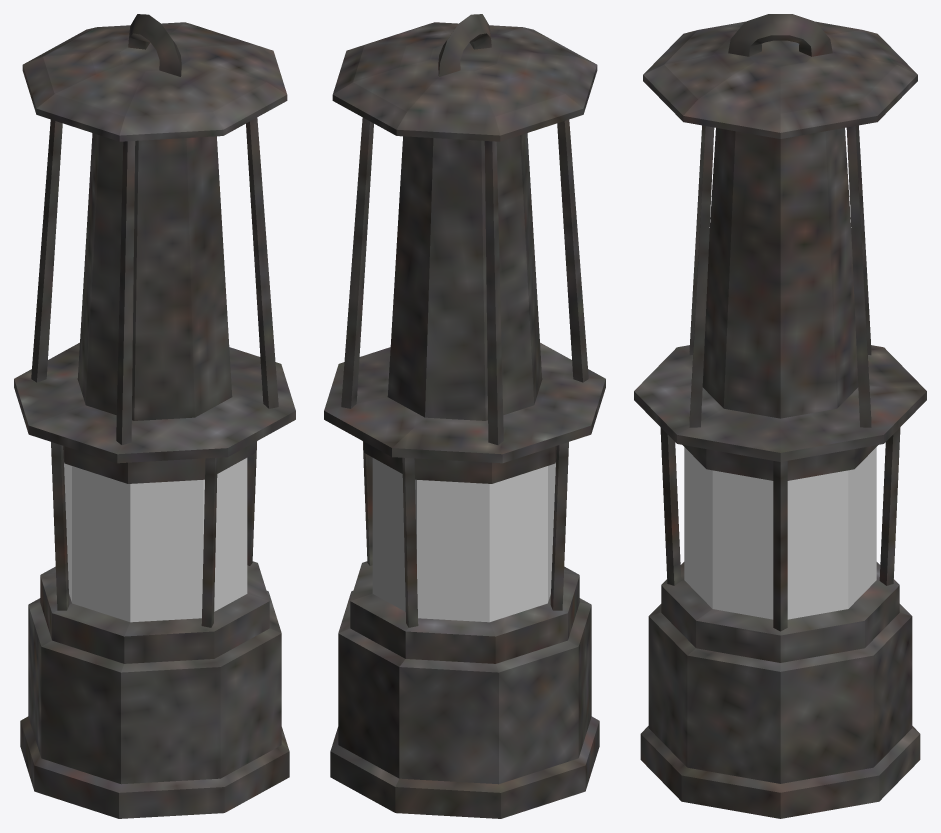
The model's file is JAM_Lamp.fbx.
3 views of the same model, side by side, from view 1: azimuth 30°, elevation 25°; view 2: azimuth 150°, elevation 25°; view 3: azimuth 270°, elevation 25° (orthographic).
Parts seen in each view (by area): view 1: PROPS_Lamp; view 2: PROPS_Lamp; view 3: PROPS_Lamp.
Boxes of the visible parts, left/top/right/bottom form: PROPS_Lamp: left=14, top=14, right=295, bottom=818; PROPS_Lamp: left=324, top=14, right=605, bottom=818; PROPS_Lamp: left=634, top=14, right=926, bottom=818.
Size of the model in its own units: 0.3256 by 0.9151 by 0.3256.
2 materials, 1 textured.
